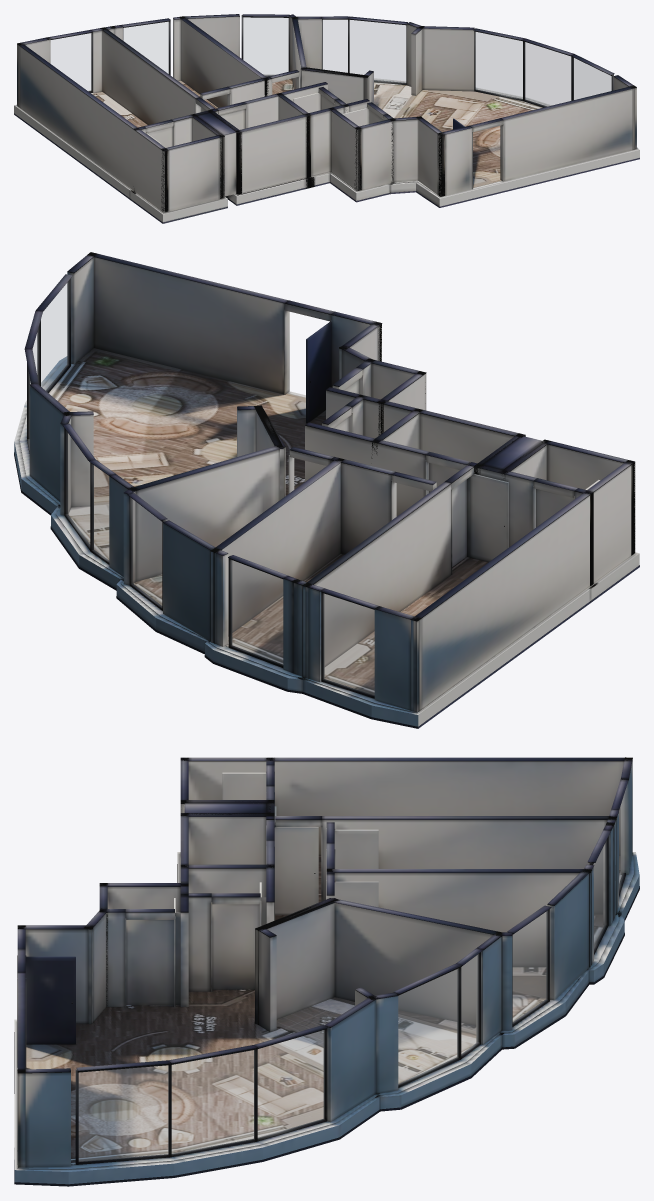
The picture shows the model from 3 angles, top to bottom: view 1: azimuth 30°, elevation 25°; view 2: azimuth 150°, elevation 25°; view 3: azimuth 270°, elevation 25°; orthographic projection. The views are drawn at different scales.
Visible parts, largest first — view 1: plan, glass4_m, glass5_m, glass6_m, glass2_m, glass0_m, glass1_m, glass3_m, glass7_m; view 2: plan, glass0_m, glass1_m, glass2_m, glass7_m, glass4_m, glass3_m; view 3: plan, glass7_m, glass6_m, glass5_m, glass4_m, glass2_m, glass3_m, glass1_m.
Part boxes in pixels (box(x1,y1,x2,y2)): plan: box(14, 14, 639, 223); glass4_m: box(350, 20, 405, 82); glass5_m: box(475, 32, 522, 98); glass6_m: box(525, 42, 570, 106); glass2_m: box(243, 17, 288, 75); glass0_m: box(51, 33, 91, 91); glass1_m: box(123, 22, 168, 73); glass3_m: box(323, 20, 347, 72); glass7_m: box(573, 58, 611, 99); plan: box(14, 252, 639, 728); glass0_m: box(323, 593, 374, 695); glass1_m: box(231, 560, 282, 664); glass2_m: box(131, 498, 161, 606); glass7_m: box(41, 281, 68, 390); glass4_m: box(66, 431, 89, 545); glass3_m: box(93, 465, 108, 560); plan: box(14, 757, 639, 1186); glass7_m: box(79, 1065, 168, 1161); glass6_m: box(172, 1050, 254, 1153); glass5_m: box(258, 1030, 324, 1137); glass4_m: box(398, 969, 458, 1084); glass2_m: box(513, 911, 547, 1022); glass3_m: box(461, 954, 478, 1054); glass1_m: box(593, 841, 606, 948).
Size of the model in its own units: 16.38 by 2.62 by 13.52.
2 materials, 1 textured.
